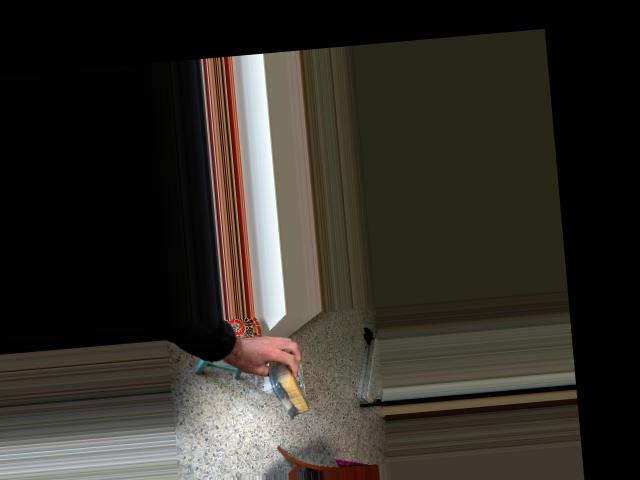cheese: (262, 334, 309, 424)
